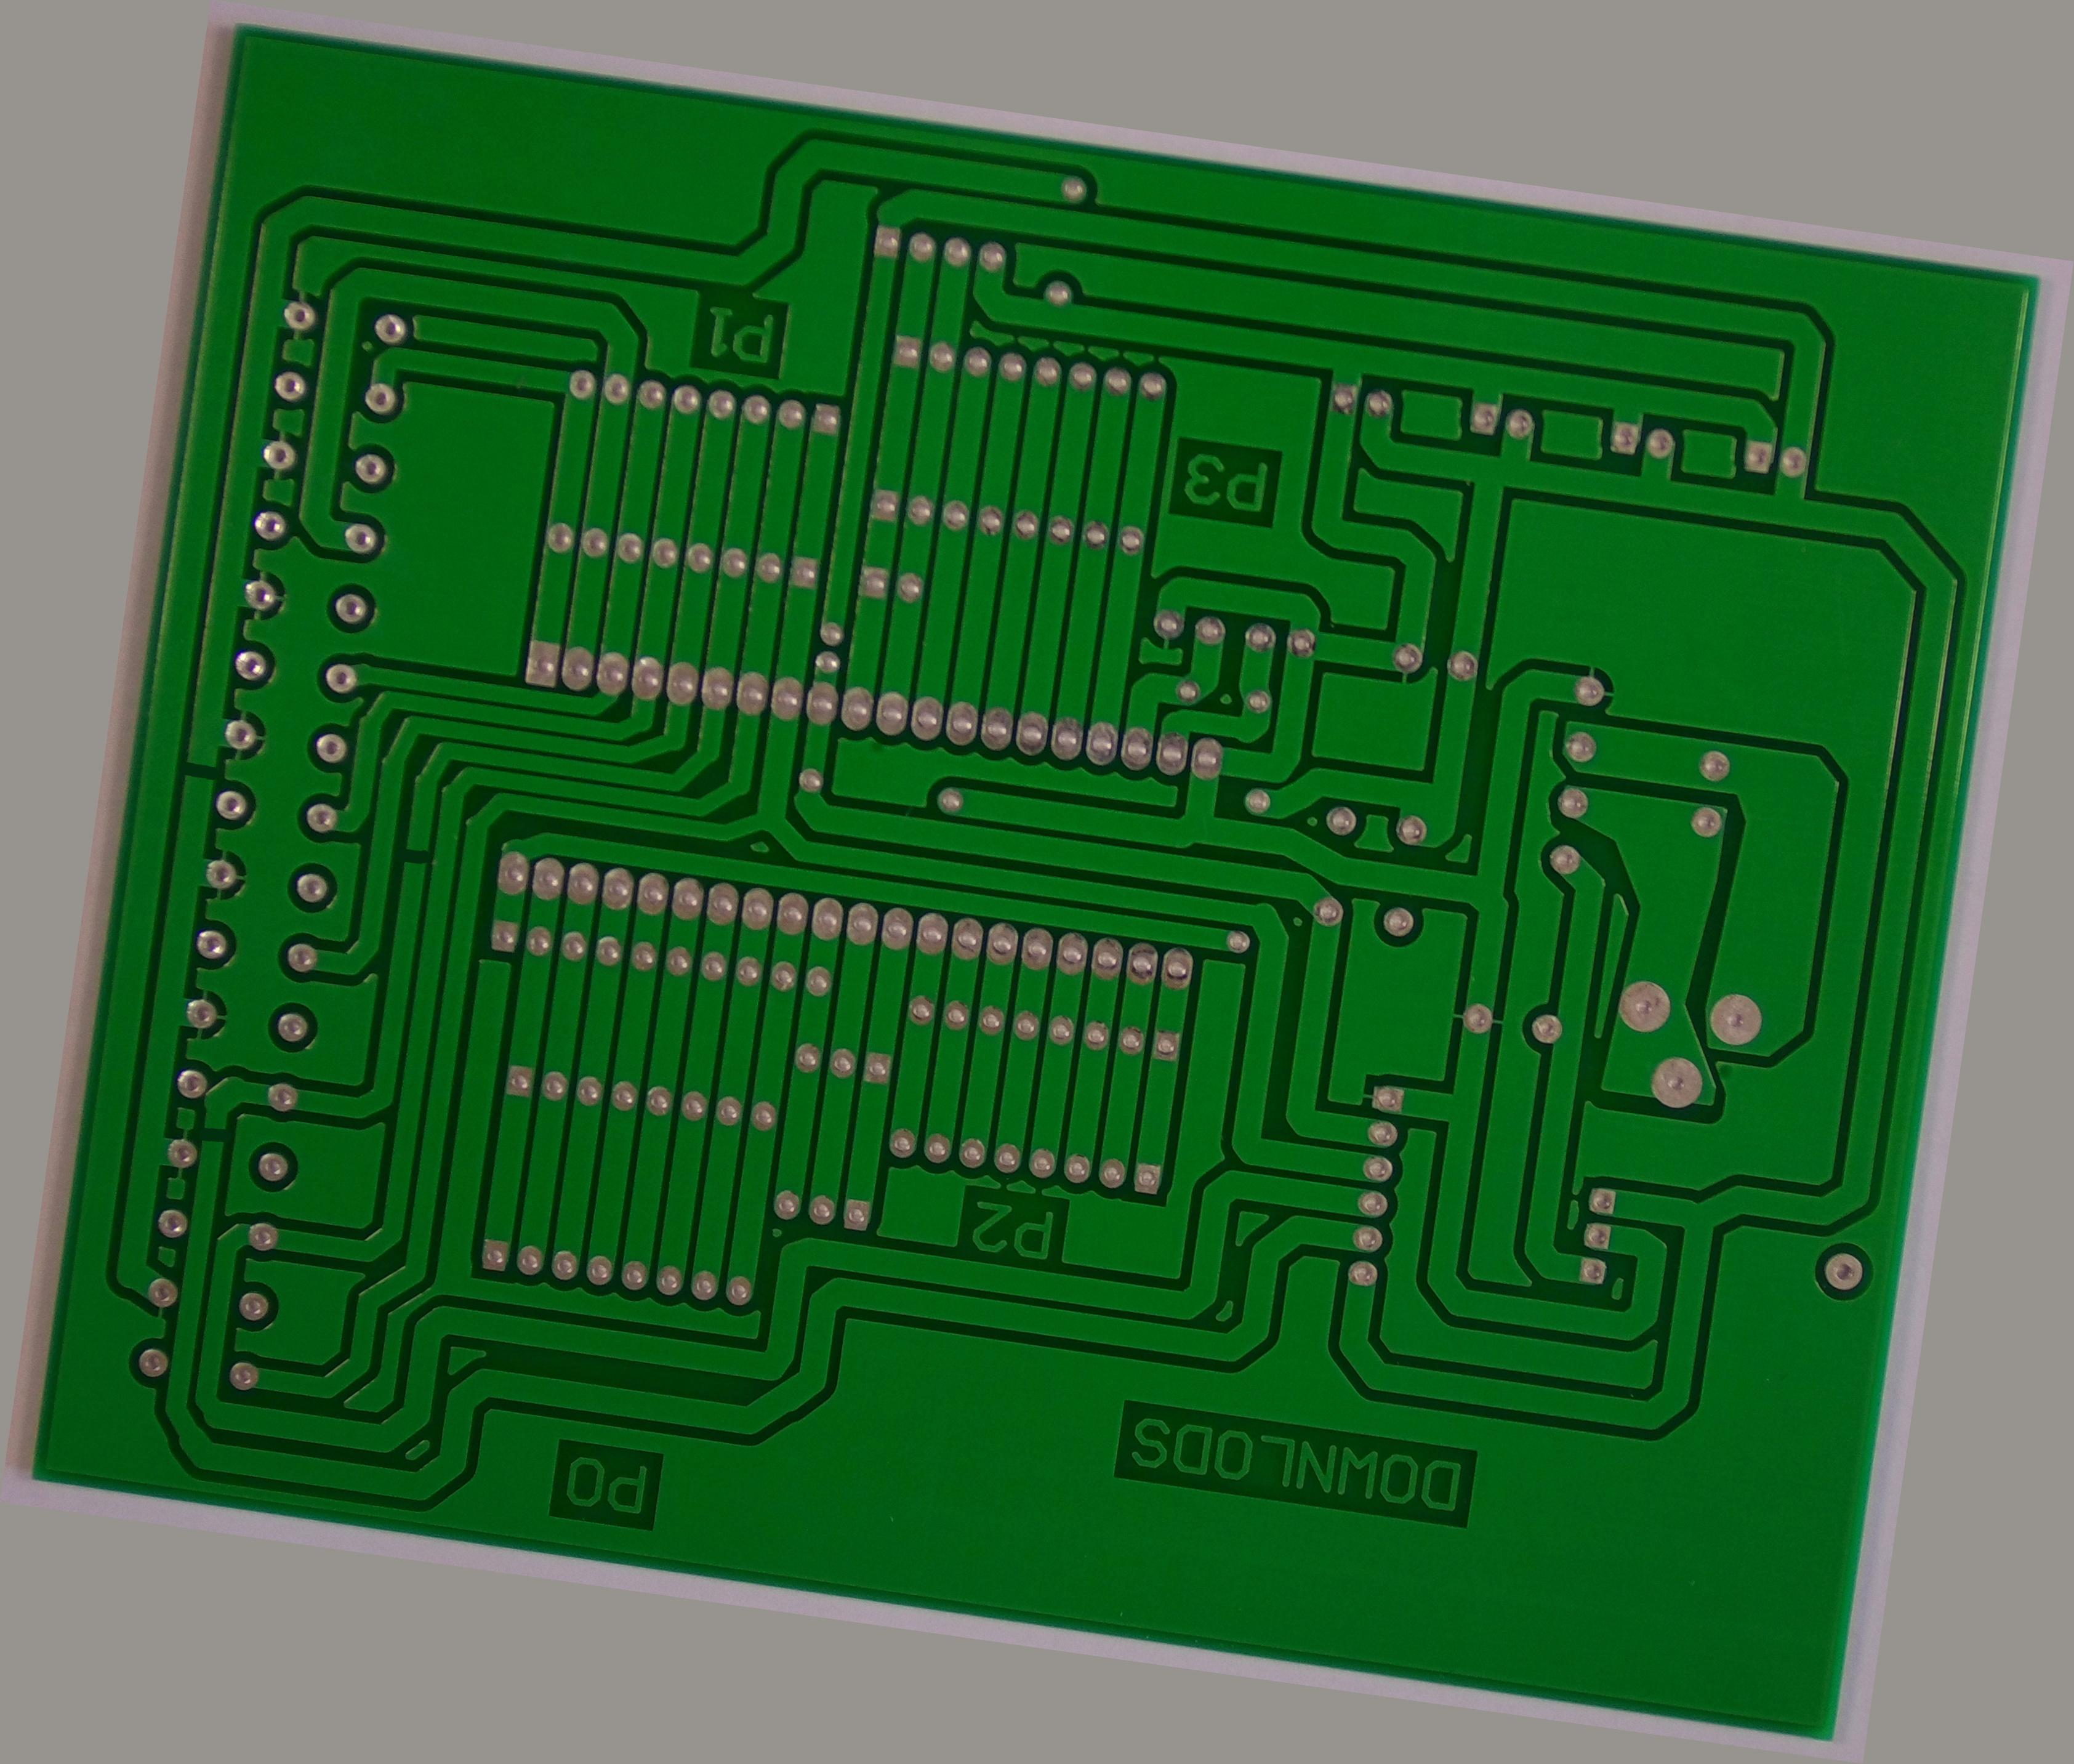open_circuit: (81, 866, 138, 910), (331, 933, 373, 977), (161, 1286, 196, 1330)
